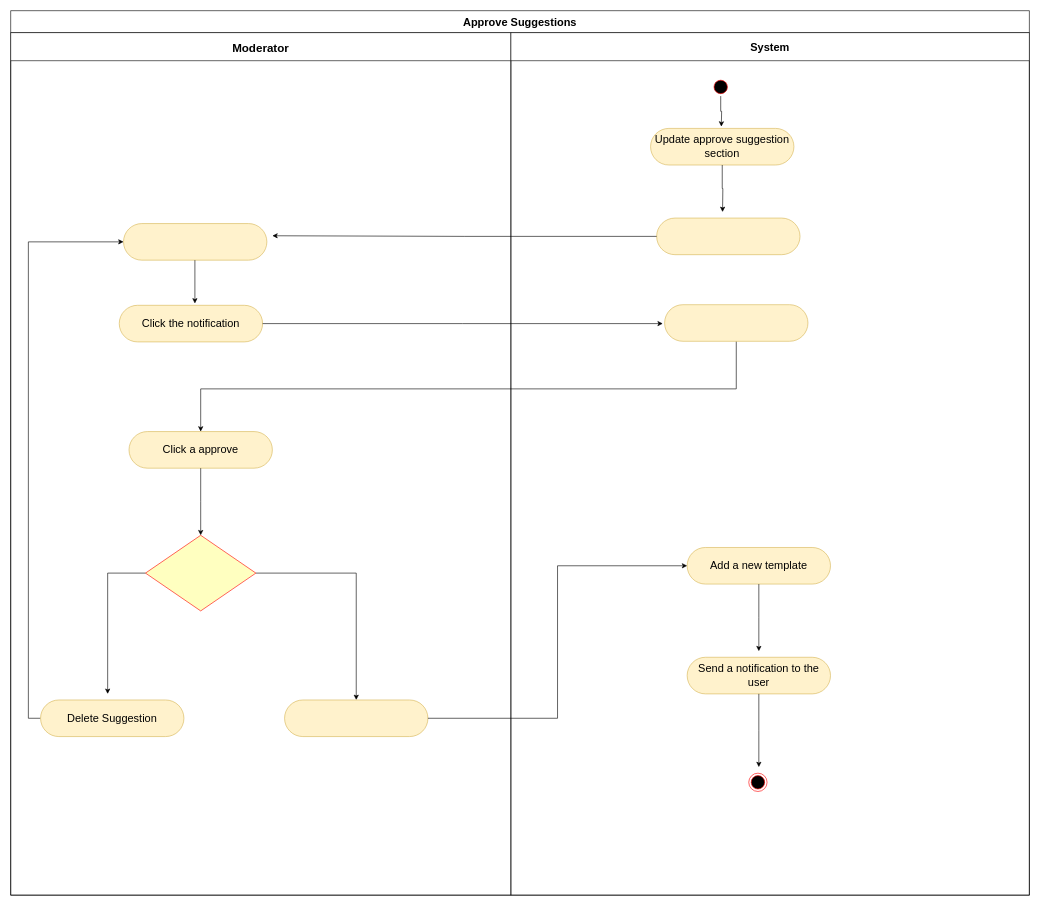
This 1040x906 diagram has some shape labels left out. Here are the shapes that lost their labels. From the top down, the centre of each, then its label:
At pixel 195 241: "Navigate to the suggestion section".
At pixel 728 236: "Send a notification".
At pixel 736 322: "View the approve suggestion template".
At pixel 356 718: "Approve Suggestion".
